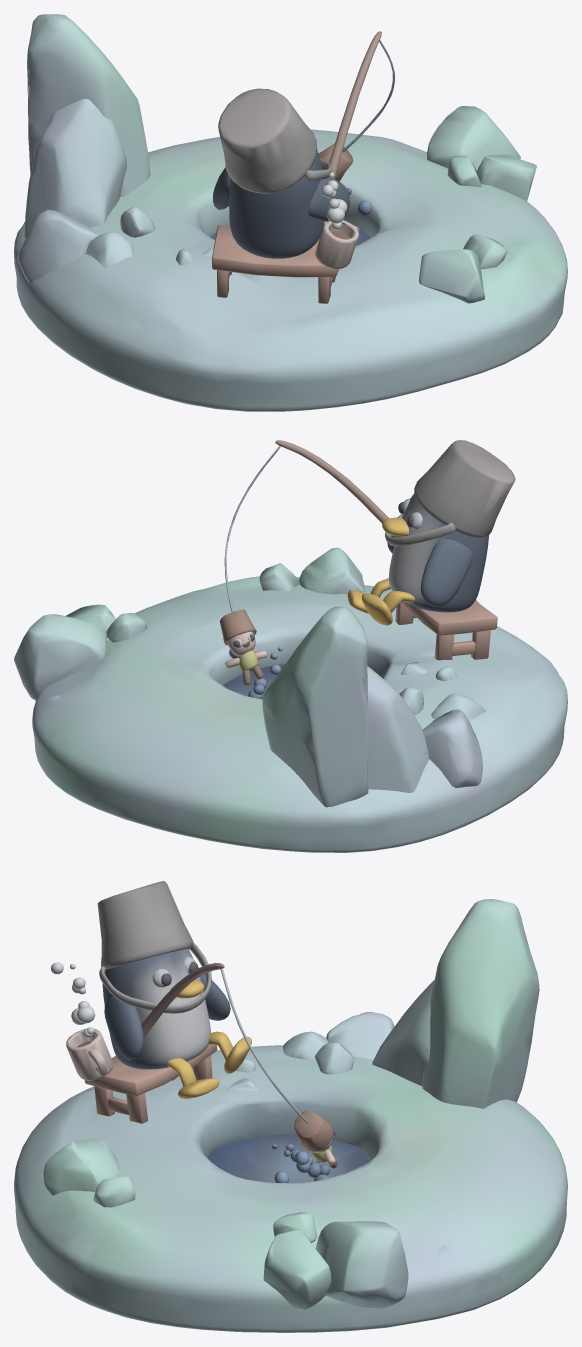
3 renders of one model, top to bottom at view 1: azimuth 30°, elevation 25°; view 2: azimuth 150°, elevation 25°; view 3: azimuth 270°, elevation 25°, orthographic. The views are drawn at different scales.
Parts seen in each view (by area): view 1: Cube.001; view 2: Cube.001; view 3: Cube.001.
Part boxes in pixels (x1,y1,x2,y2): Cube.001: (14, 14, 567, 411); Cube.001: (14, 440, 567, 852); Cube.001: (14, 881, 567, 1332).
Bounding box in the file's own units: 3.11 × 1.72 × 2.96.
